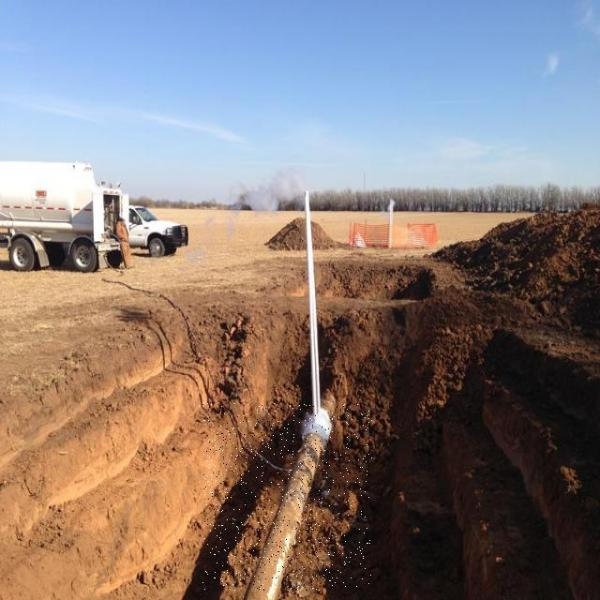water: (291, 393, 364, 509)
